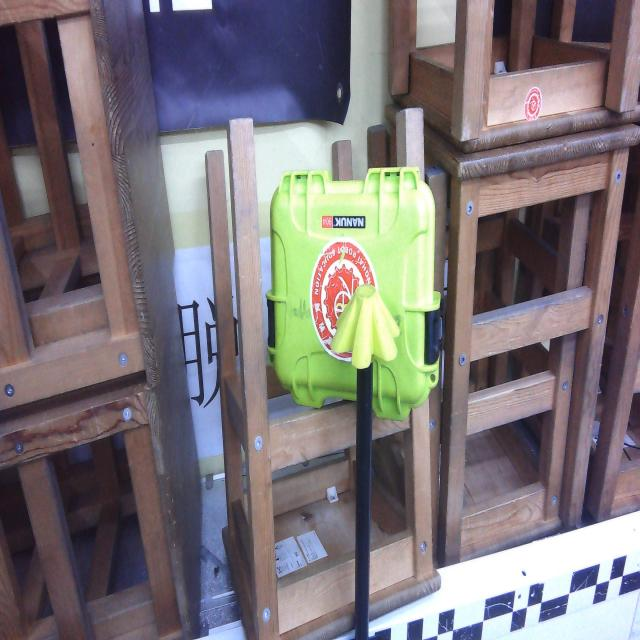Yellow-Stake-Head: (330, 284, 401, 369)
